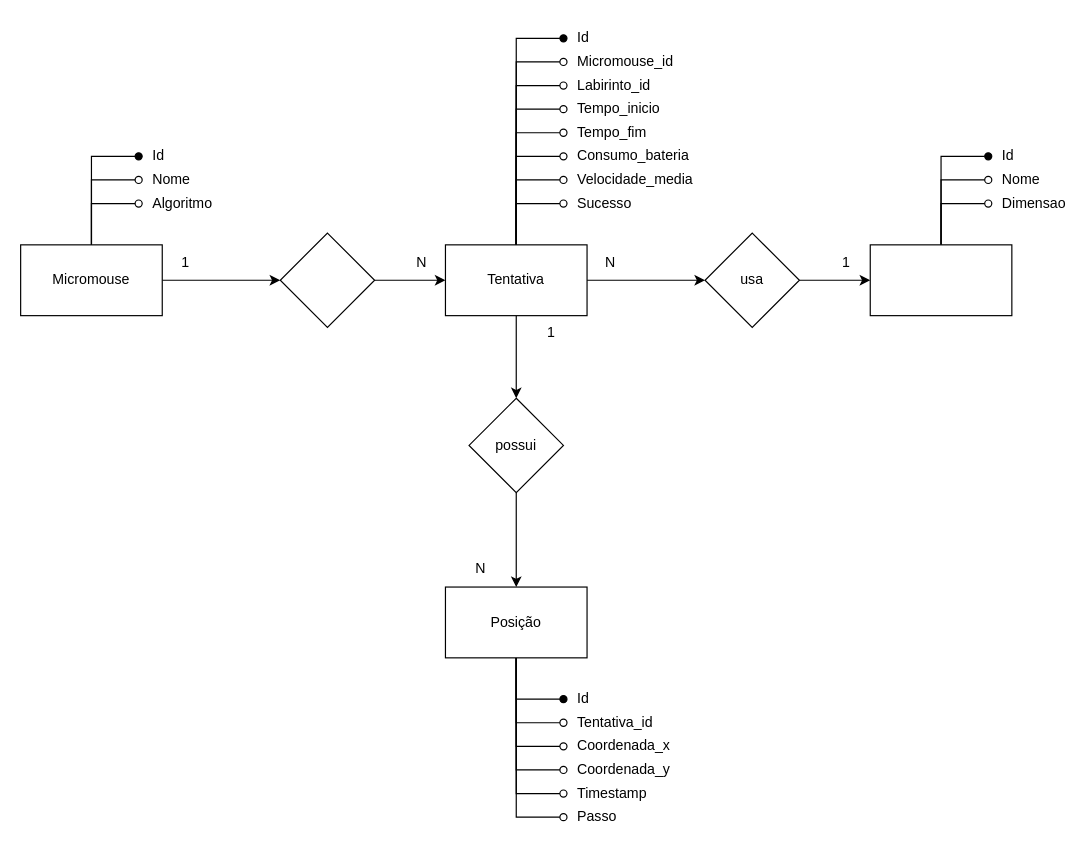
This 1087x854 diagram has some shape labels left out. The shapes that lost their labels are listed below. From the top down, each one's box as (x1, y1, x2, y2) in pixels, then its label:
(279, 232, 375, 327): realiza
(869, 244, 1012, 316): Labirinto
